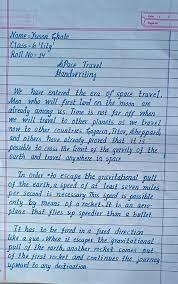text: (16, 169, 159, 184), (8, 251, 161, 265), (10, 142, 160, 156), (7, 124, 164, 137), (7, 179, 161, 192), (13, 87, 164, 100), (6, 105, 157, 118), (5, 241, 156, 254), (6, 206, 155, 219), (7, 232, 156, 245), (7, 115, 163, 127), (13, 222, 145, 236), (7, 189, 158, 201), (6, 197, 154, 209), (7, 96, 153, 108), (8, 151, 124, 166), (8, 133, 148, 145), (7, 260, 88, 272), (9, 30, 71, 42), (53, 68, 98, 82), (56, 58, 105, 70), (9, 40, 57, 52), (9, 49, 48, 60), (148, 20, 160, 25), (147, 14, 156, 18)
